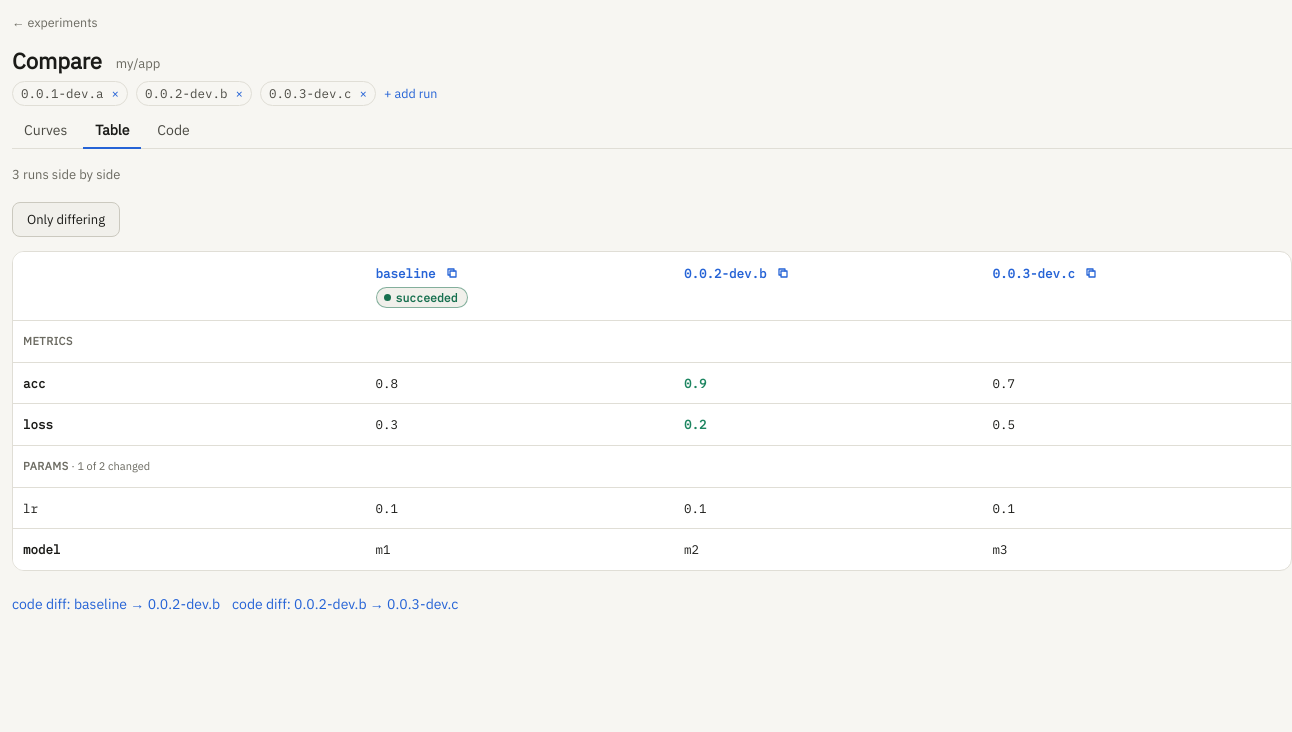
CompareRuns › the only-differing toggle hides equal rows and lives in the URL
The width and height of the screenshot is (1292, 732).
Check: the text "lr" is shown, box [13, 487, 366, 529]
Click the button "Only differing": (66, 220) [12, 202, 120, 237]
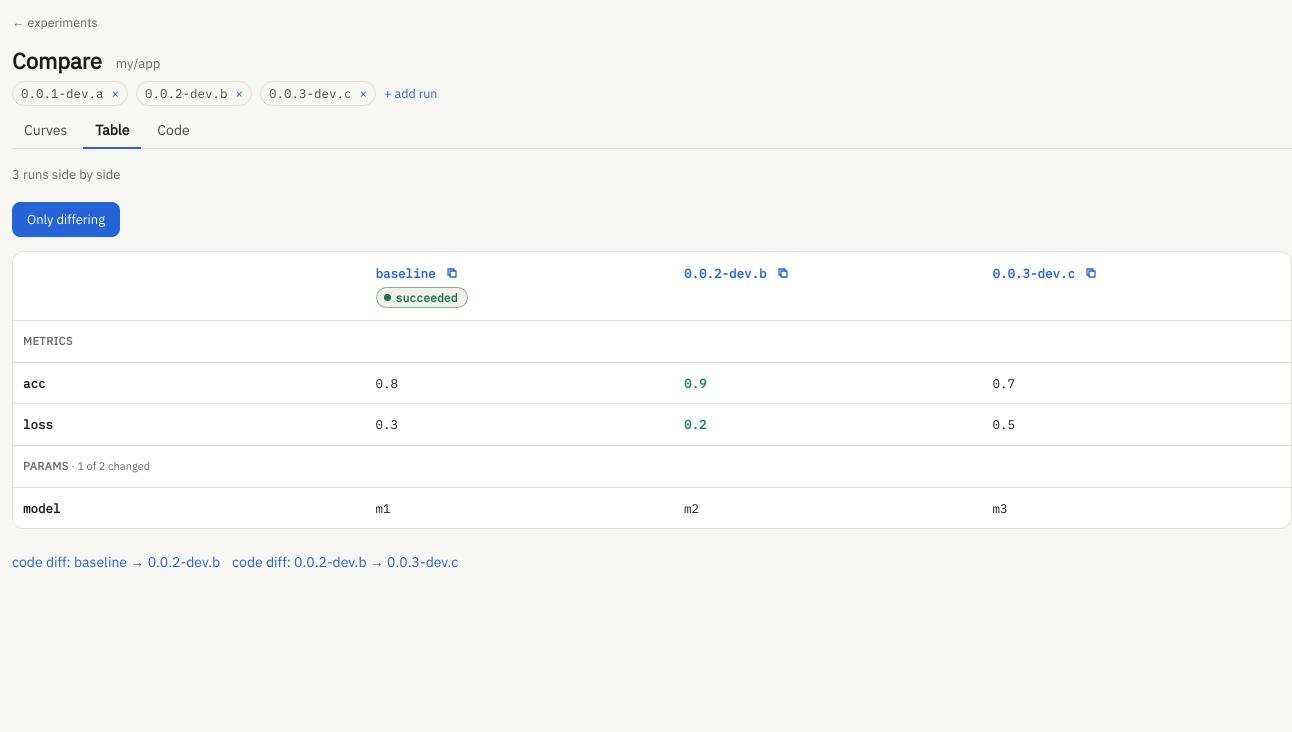
Check: the text "model" is shown, box [13, 487, 366, 528]
Check: the text "lr" is gone
